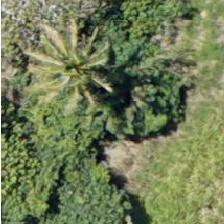Kelapa_Sawit: (34, 23, 124, 113)
